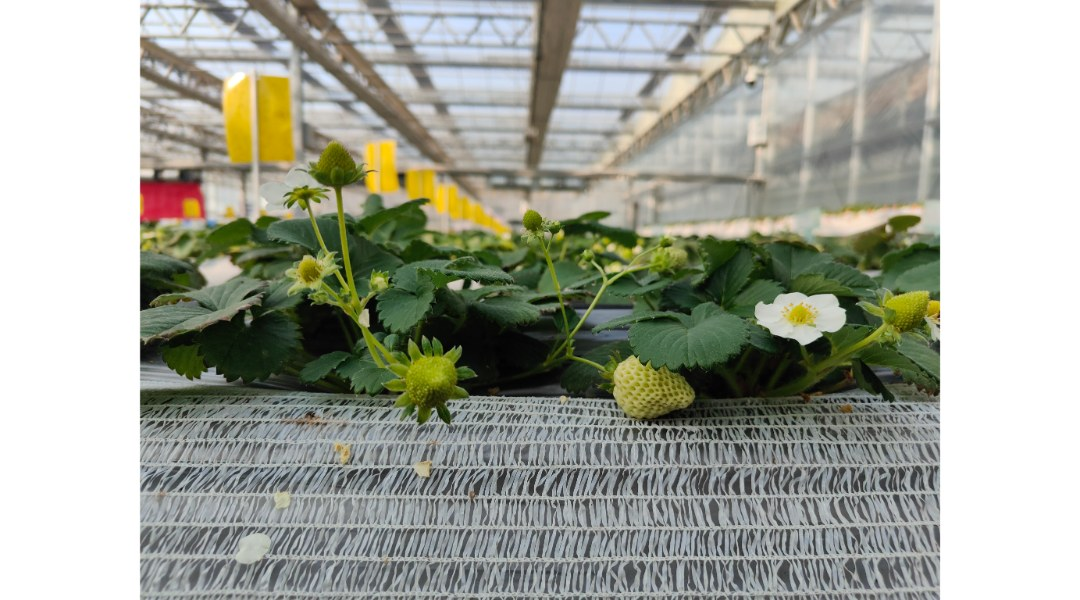berry: (386, 333, 479, 428), (596, 348, 710, 425), (302, 139, 371, 187), (277, 253, 330, 299), (280, 181, 329, 215)
flower: (752, 289, 848, 348)
strain: (331, 196, 356, 290), (540, 261, 570, 328), (573, 290, 604, 345)
